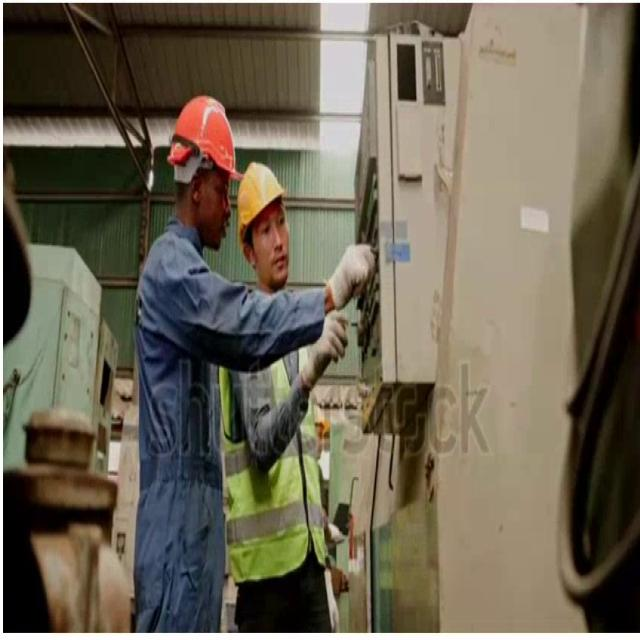gloved: (300, 308, 348, 391), (324, 240, 375, 312)
